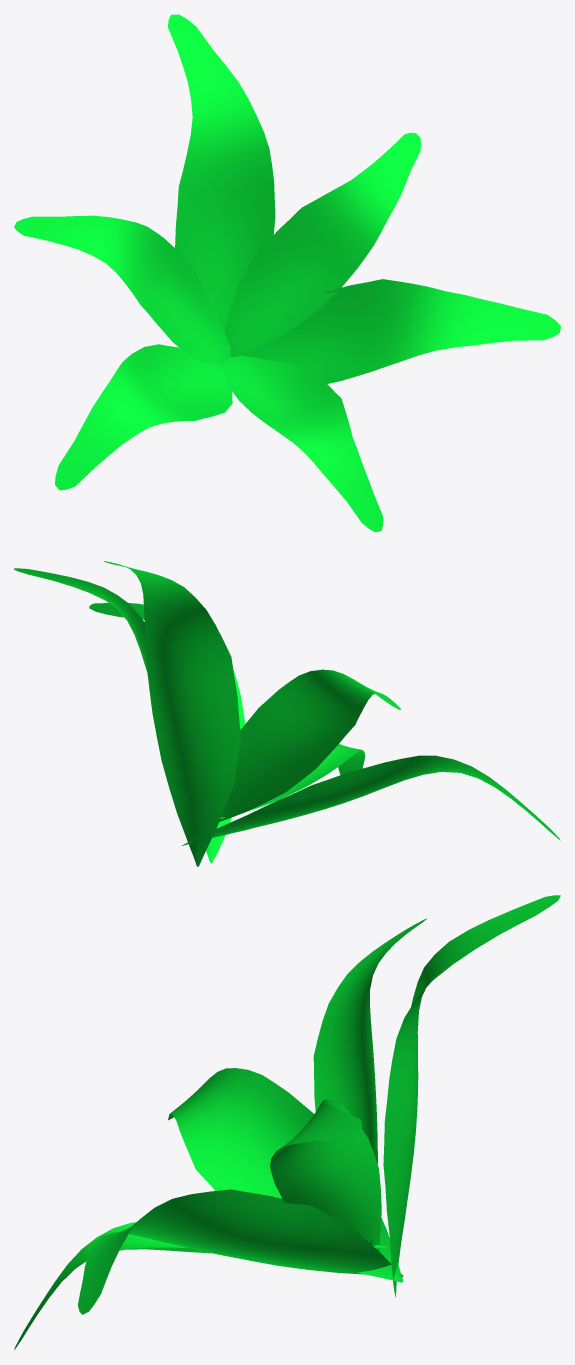
The model's file is flower_green2.glb.
3 views of the same model, one above another, from view 1: azimuth 30°, elevation 25°; view 2: azimuth 150°, elevation 25°; view 3: azimuth 270°, elevation 25° (orthographic). The views are drawn at different scales.
Parts seen in each view (by area): view 1: petals 1; view 2: petals 1; view 3: petals 1.
Part boxes in pixels (x1,y1,x2,y2): petals 1: [14, 14, 560, 532]; petals 1: [14, 561, 560, 866]; petals 1: [14, 895, 560, 1350].
Size of the model in its own units: 2.27 by 1.66 by 1.79.
